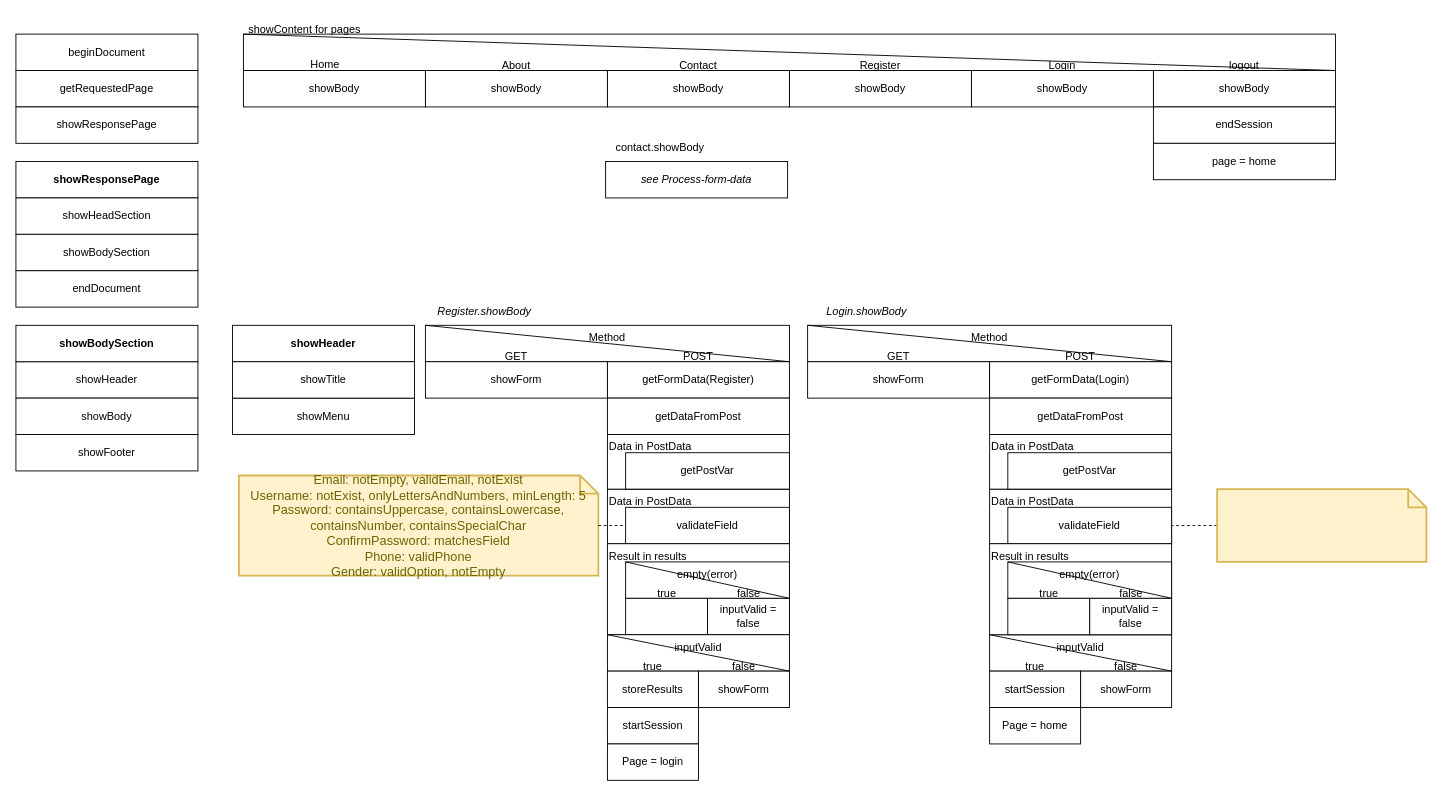
This 1443x796 diagram has some shape labels left out. Each missing label, with the box of its shape:
responsePage: (243, 33, 1335, 71)
Username: matchesExisting Password: matchesUserPassword: (1216, 488, 1427, 562)
